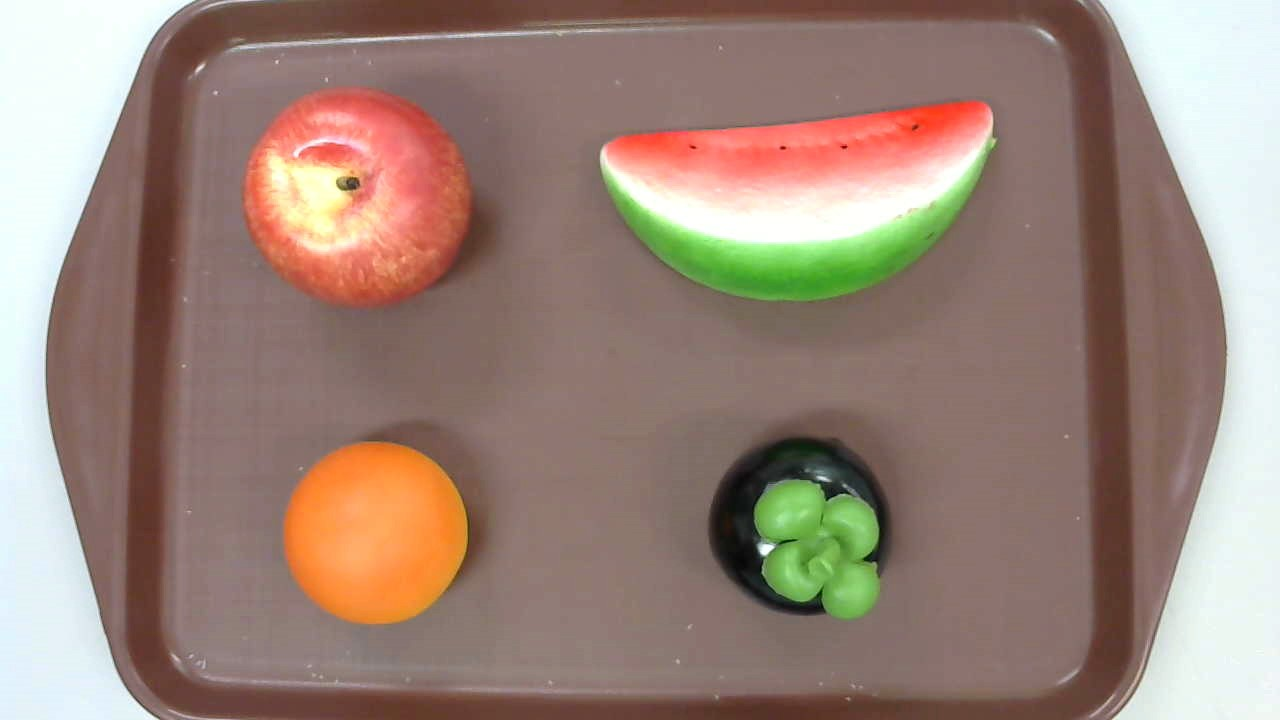bun: (282, 440, 469, 626)
mangosteen: (707, 434, 893, 620)
red apple: (241, 86, 472, 311)
water melon: (598, 100, 996, 301)
